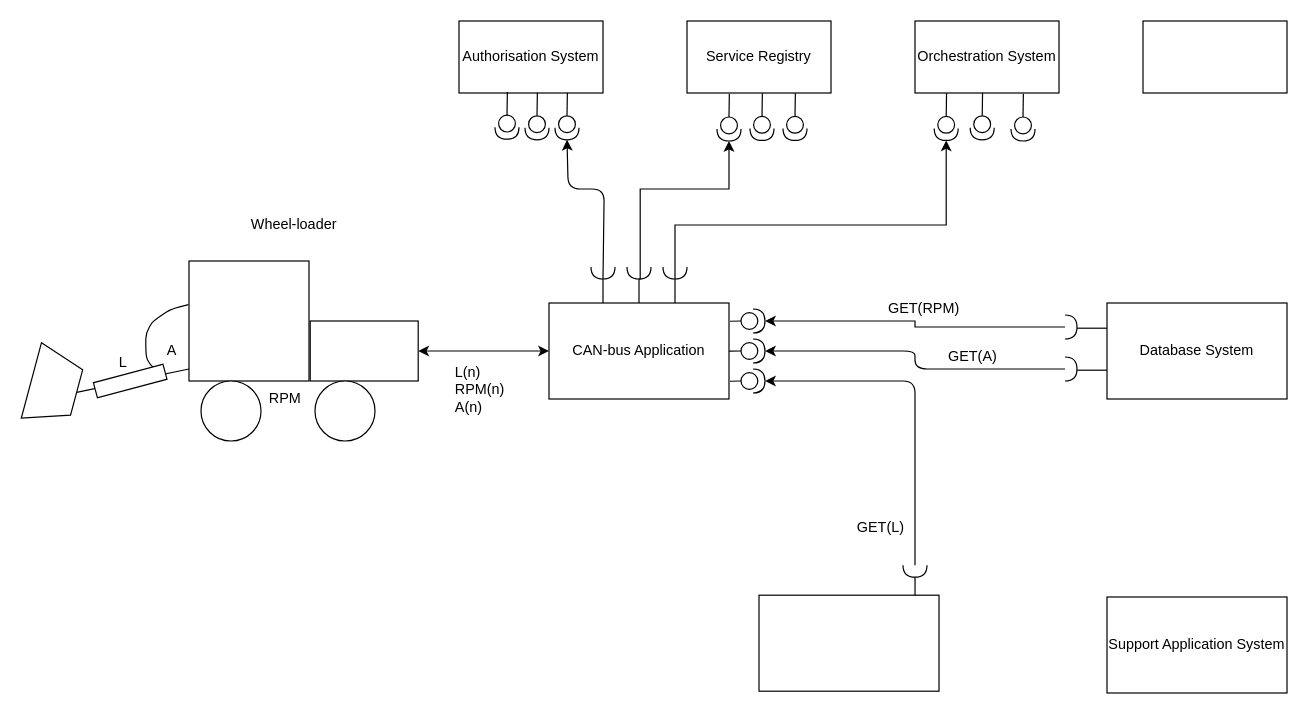
Image size: 1308x714. Some labels were removed from this diagram. Here are the shapes that lost their labels. From the top down, the centre of each, then its label:
(x=1214, y=56): Exchange broker
(x=363, y=350): CAN bus
(x=848, y=642): Control Application System
